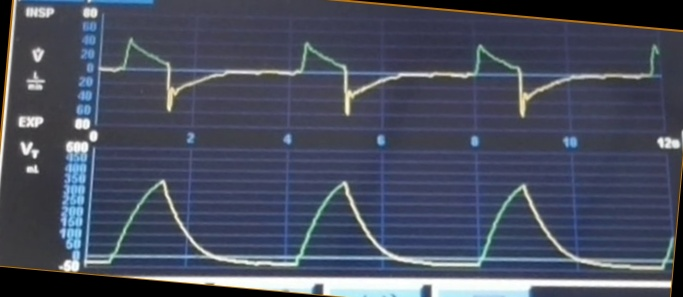Normal Flow: (102, 32, 658, 125)
Normal Volume: (92, 175, 671, 272)
